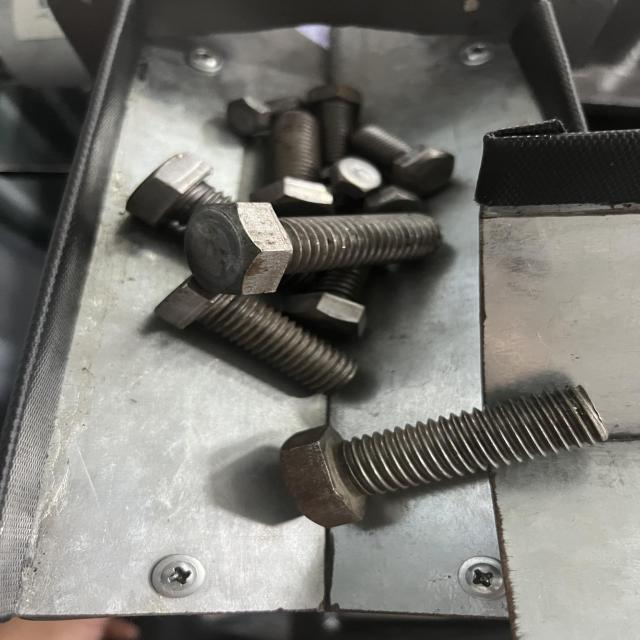bolt: (281, 386, 608, 529), (186, 202, 443, 294)
